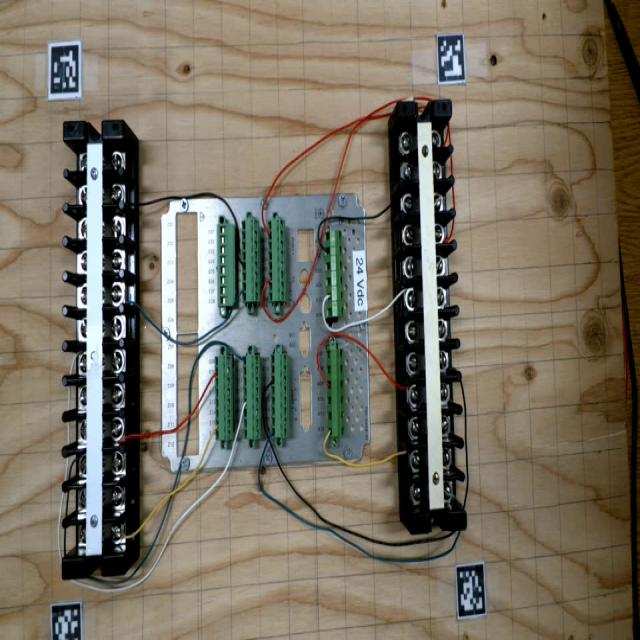Flathead_Block: (398, 100, 466, 535)
Phillips_Block: (62, 120, 125, 580)
Terminal_1: (324, 230, 344, 318), (326, 348, 345, 437)
Terminal_2: (267, 218, 287, 302), (241, 217, 260, 303), (270, 353, 289, 438), (215, 356, 233, 440), (243, 355, 261, 439)
